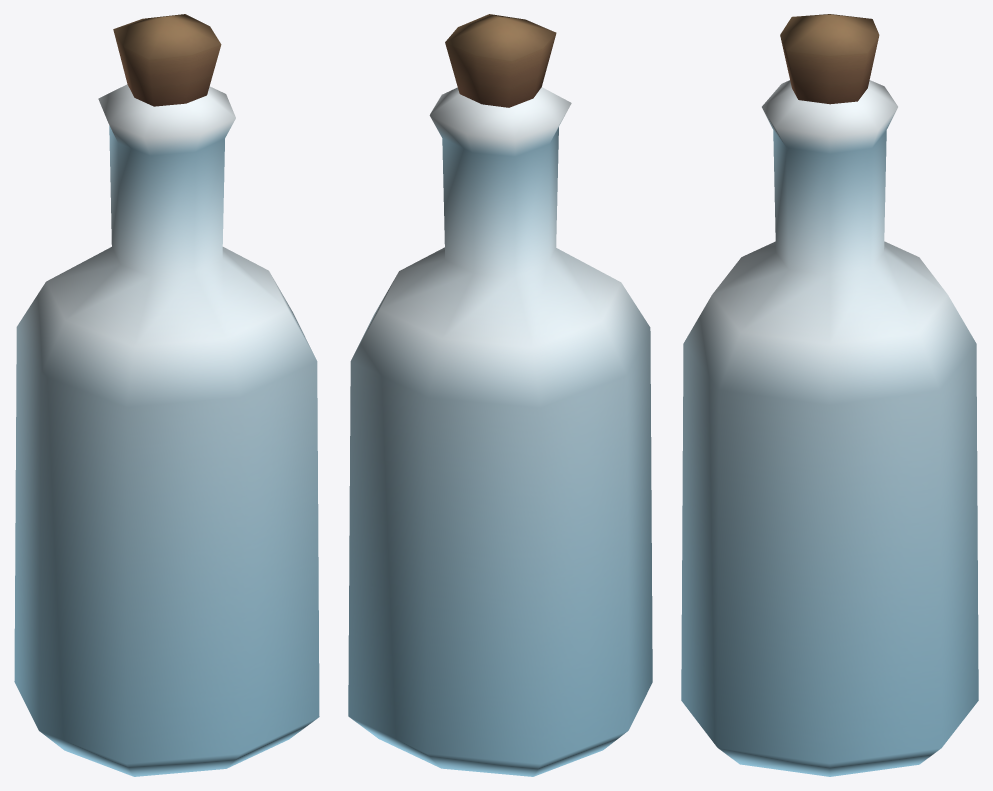
File: bottle_glass_white.fbx
3 views of the same model, side by side, from view 1: azimuth 30°, elevation 25°; view 2: azimuth 150°, elevation 25°; view 3: azimuth 270°, elevation 25° (orthographic).
Parts seen in each view (by area): view 1: bottle_glass_white; view 2: bottle_glass_white; view 3: bottle_glass_white.
Part boxes in pixels (left/top/right/bottom): bottle_glass_white: left=14, top=14, right=319, bottom=776; bottle_glass_white: left=348, top=14, right=652, bottom=776; bottle_glass_white: left=681, top=14, right=978, bottom=776.
Bounding box in the file's own units: 24.28 × 64.14 × 24.29.
